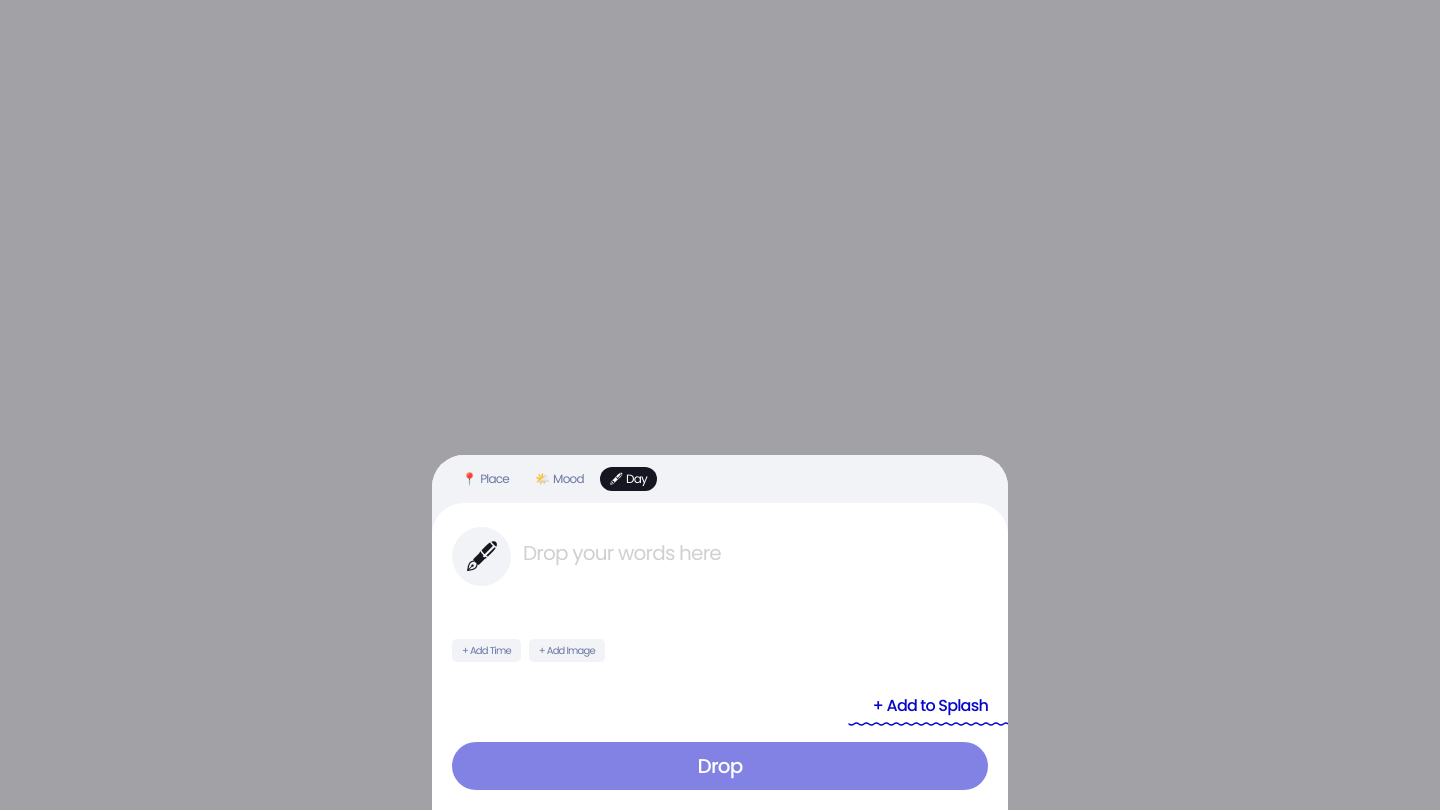
it: the annotation (H20c) › places the fragment on today as one editable chip: no Done, a clock only on request
The image size is (1440, 810).
Click the button "+ Add Time": (486, 650) x1=452 y1=639 x2=521 y2=662
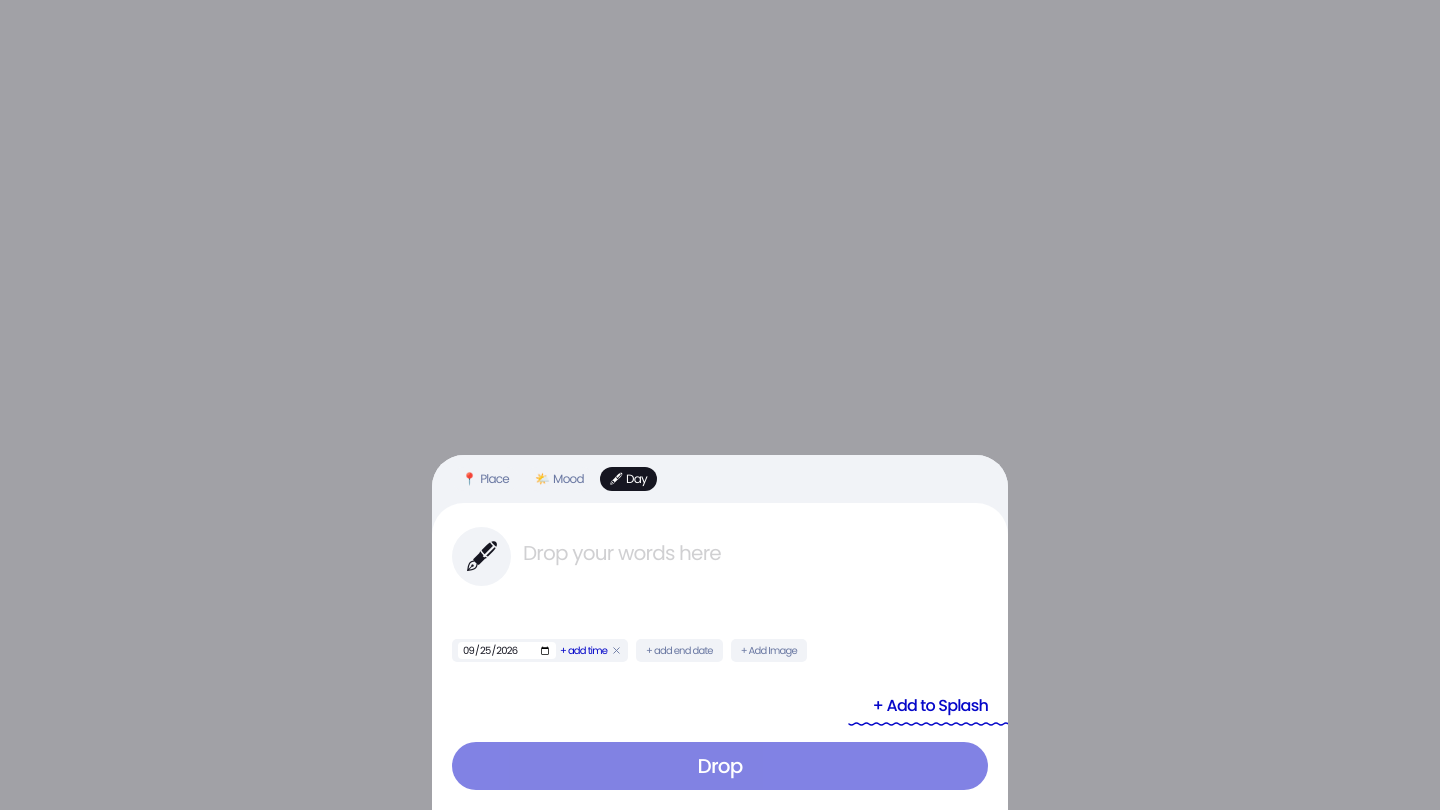
expect the element showing "+ add time" is shown: met, box x1=452 y1=639 x2=628 y2=662
expect the date field named "Date" holds "2026-09-25": met, box x1=458 y1=642 x2=556 y2=659
expect the button "+ add end date" is shown: met, box x1=636 y1=639 x2=723 y2=662
